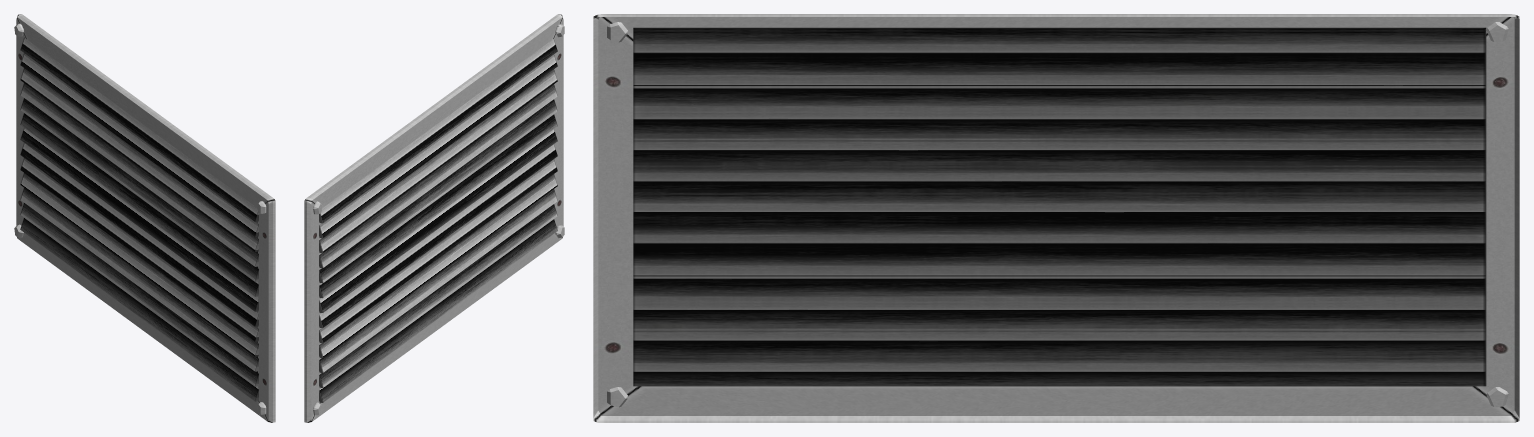
The model's file is Air Vent Exit.fbx.
3 renders of one model, left to right at view 1: azimuth 30°, elevation 25°; view 2: azimuth 150°, elevation 25°; view 3: azimuth 270°, elevation 25°, orthographic. The views are drawn at different scales.
Visible parts, largest first — view 1: Cube.042; view 2: Cube.042; view 3: Cube.042.
Part boxes in pixels (x1,y1,x2,y2): Cube.042: (14,14,275,422); Cube.042: (304,14,564,422); Cube.042: (593,14,1519,422).
Bounding box in the file's own units: 12.53 × 243 × 502.
Materials: 1 (1 with a texture image).
